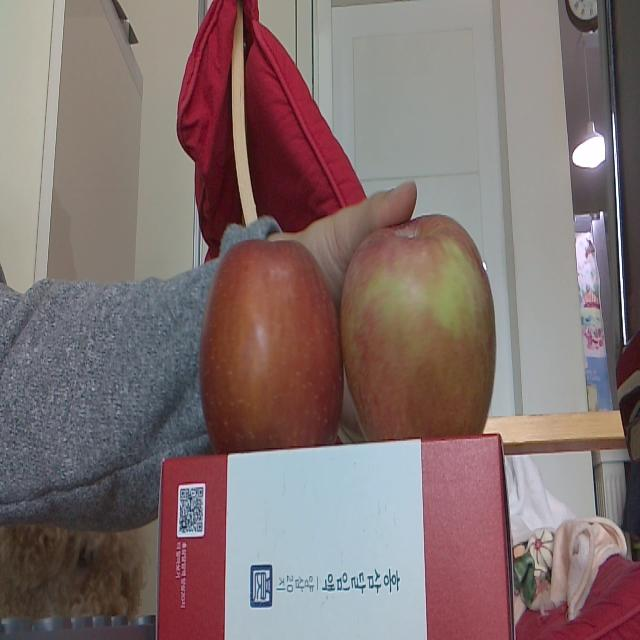apple: (341, 213, 498, 439), (198, 237, 344, 455)
